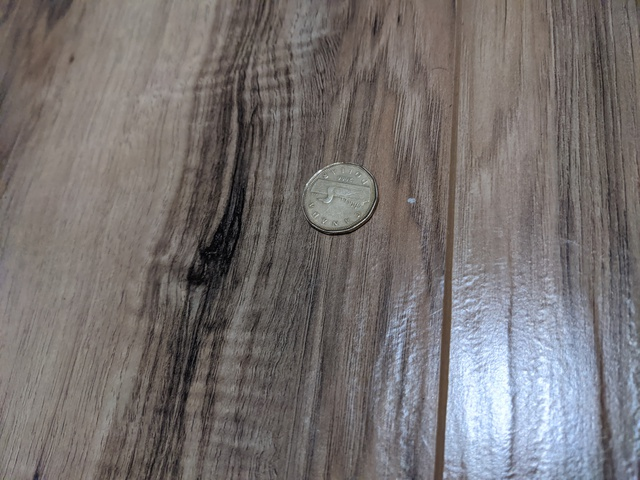loonie: (294, 148, 383, 236)
